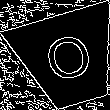O_S: (39, 29, 98, 90)
